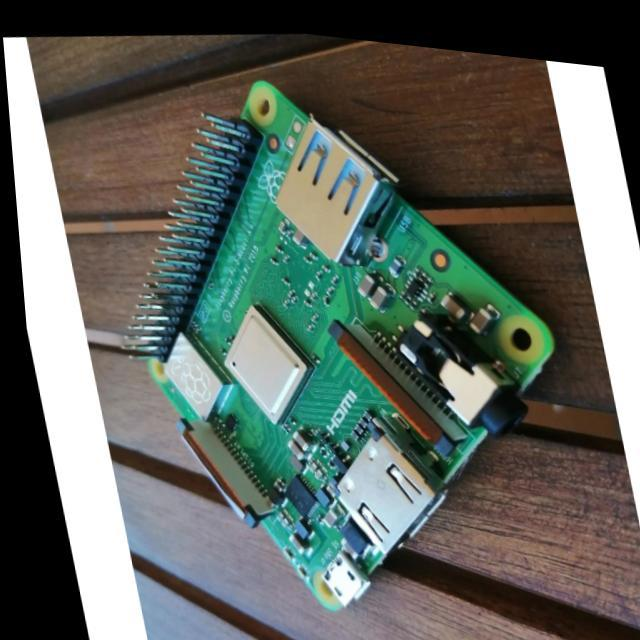Raspberry-Pi-3-A-: (125, 82, 554, 611)
